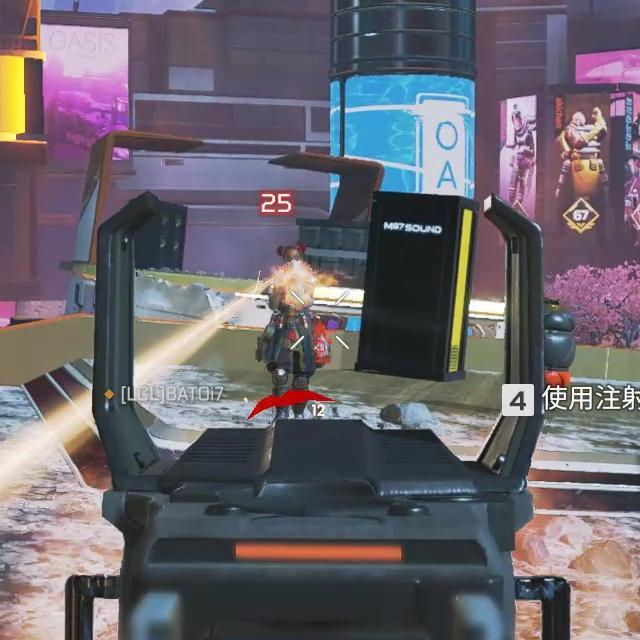avatar: (253, 242, 318, 419)
object: (270, 260, 317, 309)
